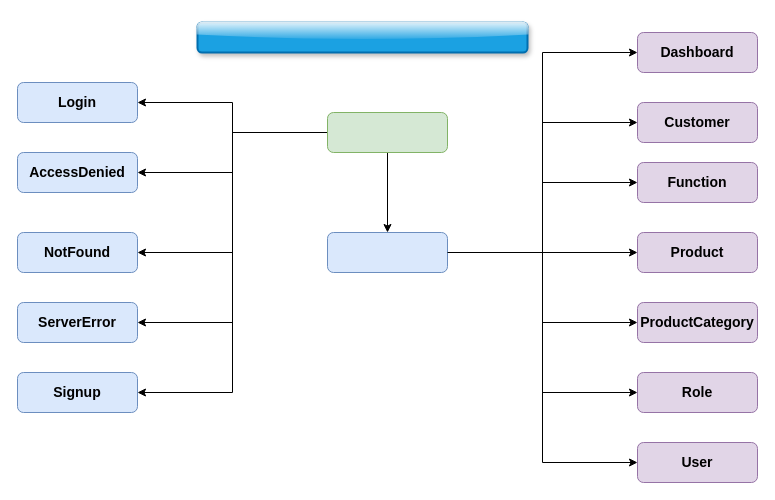
Some shapes in this 775 by 500 pixel diagram are drawn without their labels. Here are the shapes that lost their labels. From the top down, the centre of each, then its label:
point 363,38: Application Component
point 387,132: App Module
point 387,252: Layout
